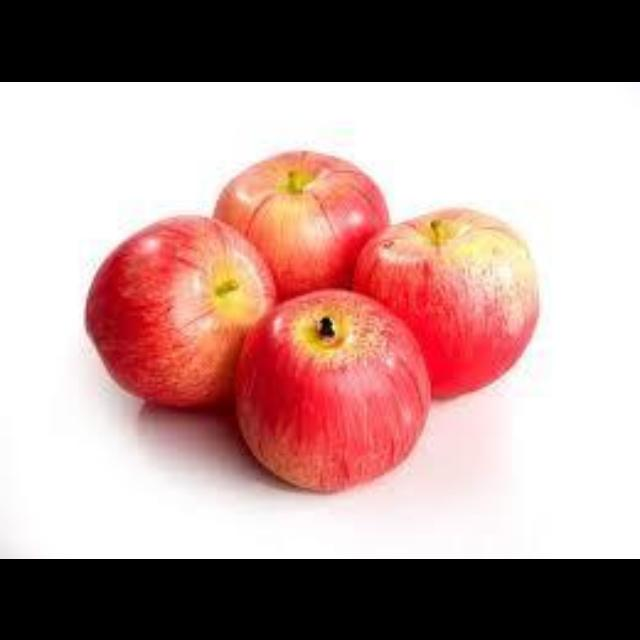apple: (236, 288, 428, 490), (86, 214, 276, 406), (352, 209, 537, 396), (214, 150, 386, 298)
